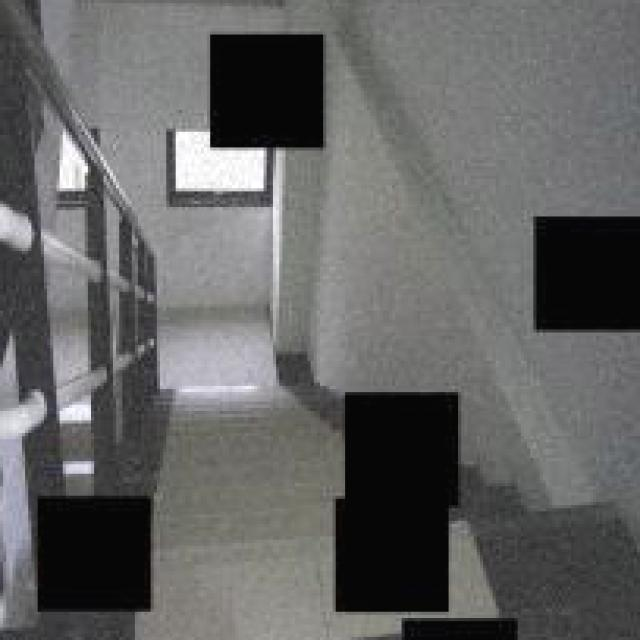downstair: (161, 381, 321, 607)
